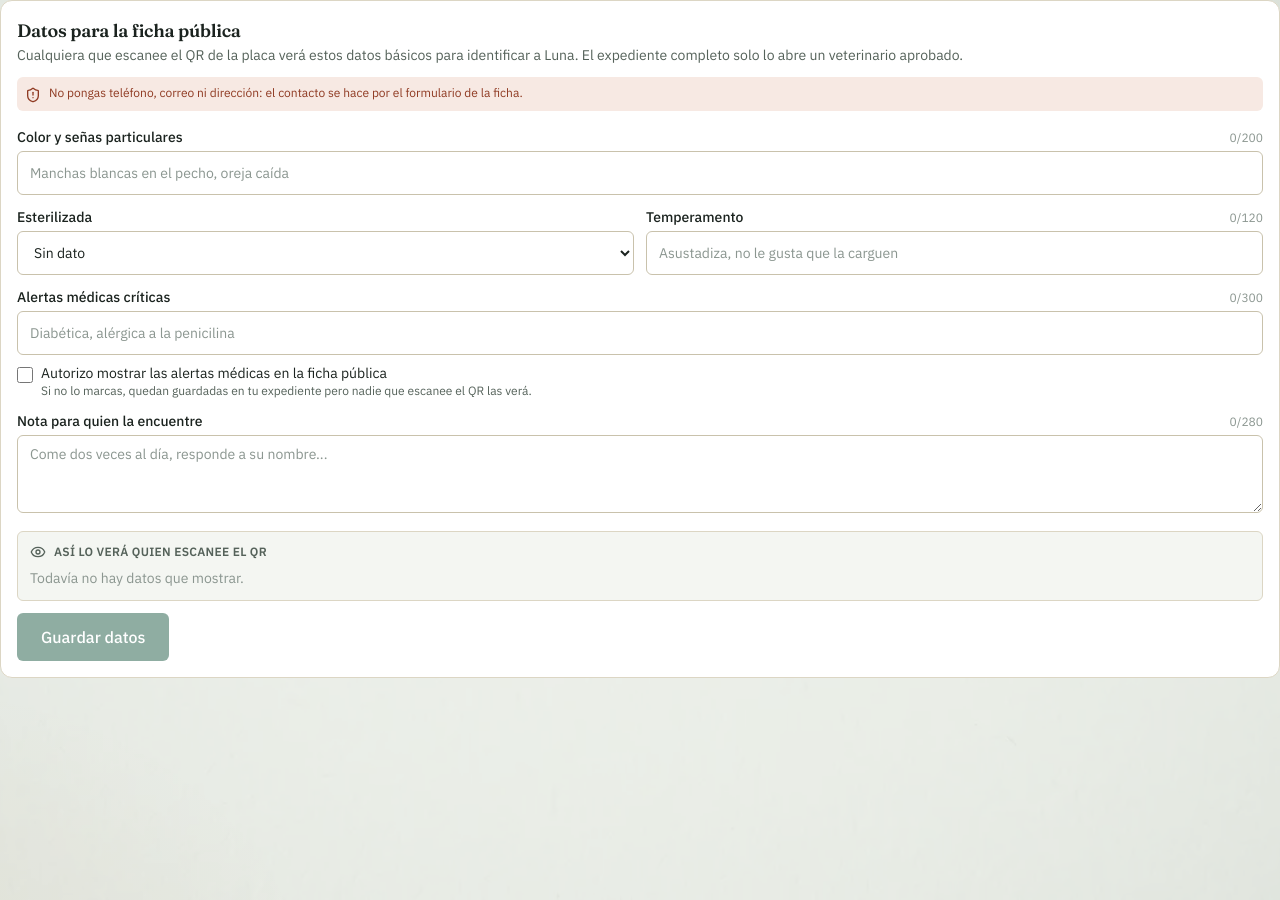
Test: FormularioDatosPublicosMascota › la vista previa se actualiza mientras se escribe
The image size is (1280, 900).
Type "collar rojo" into the field with placeholder "Manchas blancas en el pecho, oreja caída" at coordinates (640, 173), box left=17, top=151, right=1263, bottom=195
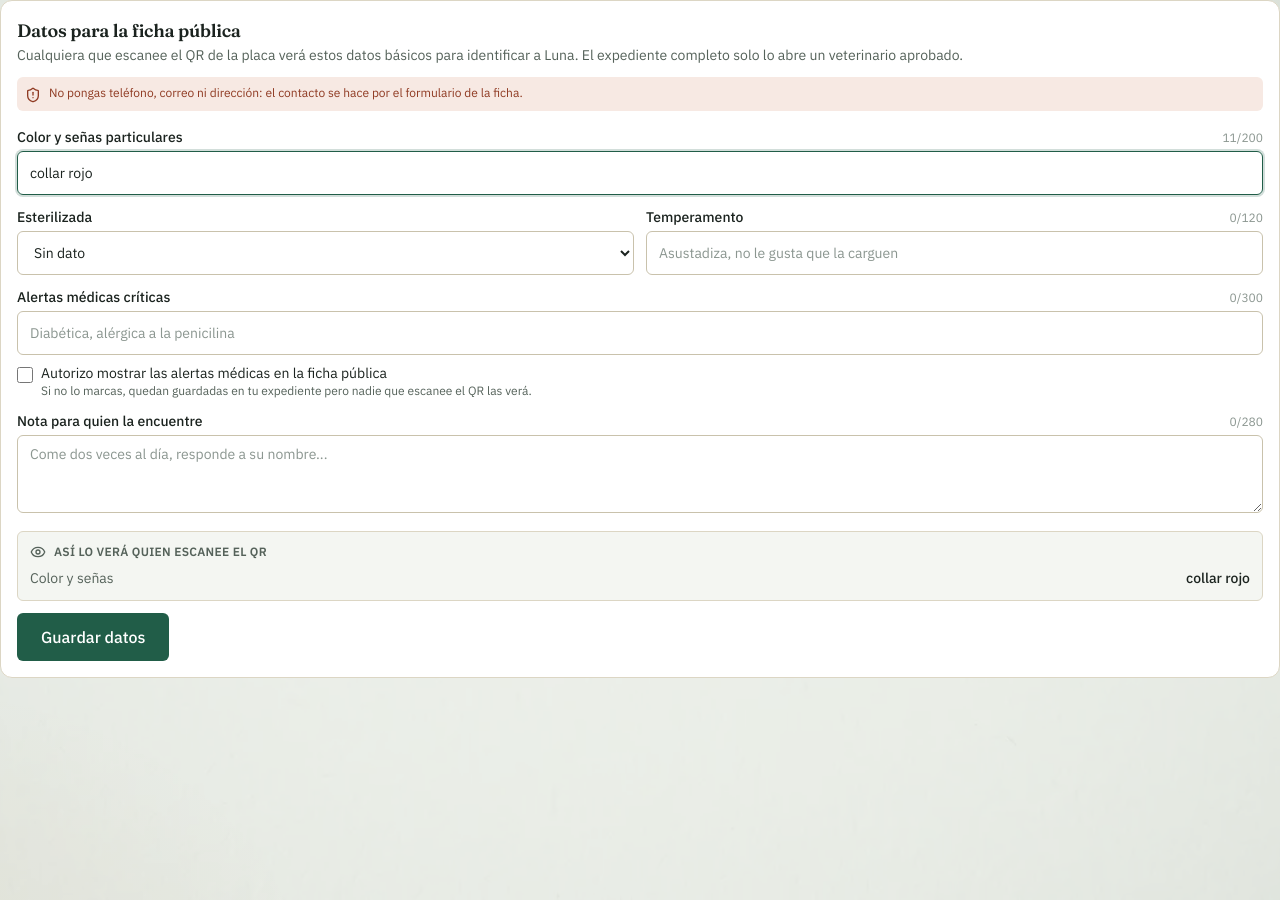
Expected: the text "collar rojo" is shown, left=1186, top=568, right=1250, bottom=588
